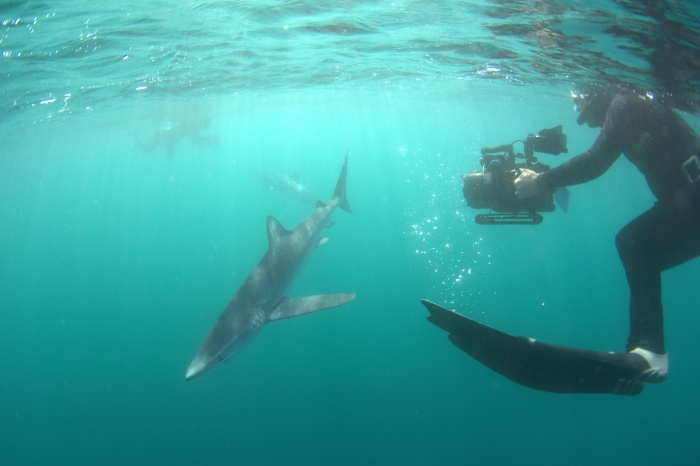Azul: (173, 152, 365, 389)
